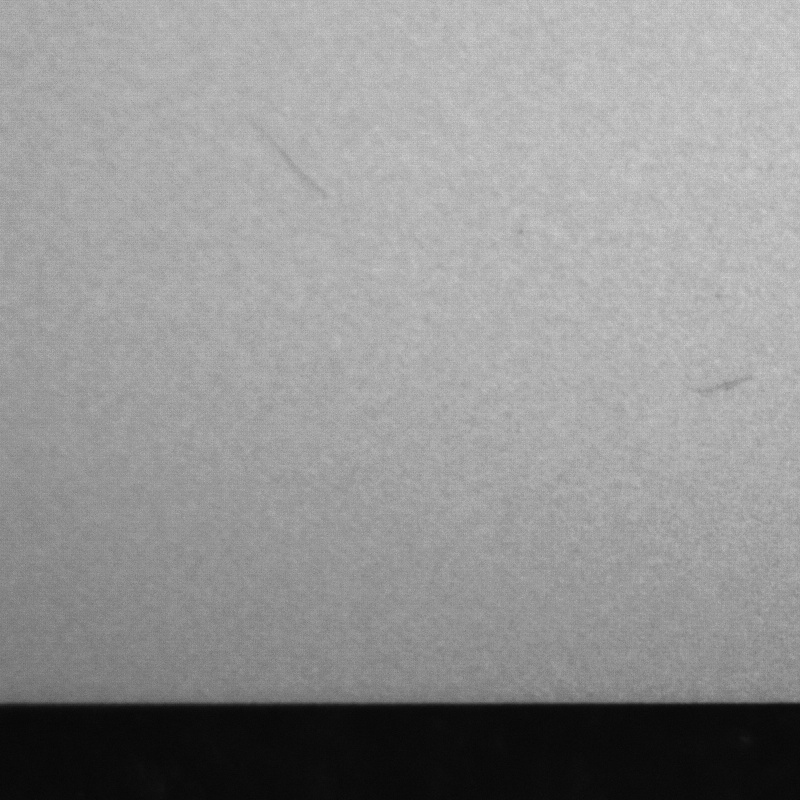defect: (248, 117, 332, 198), (674, 369, 756, 405)
